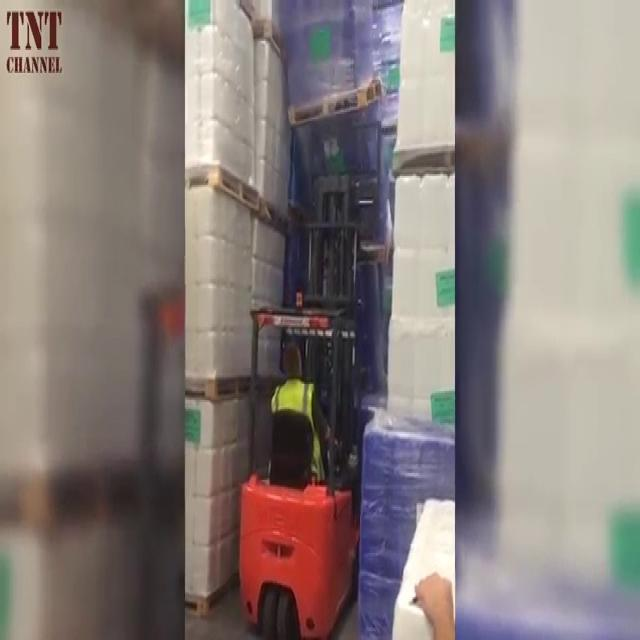Chariot elevateur: (235, 275, 367, 640)
